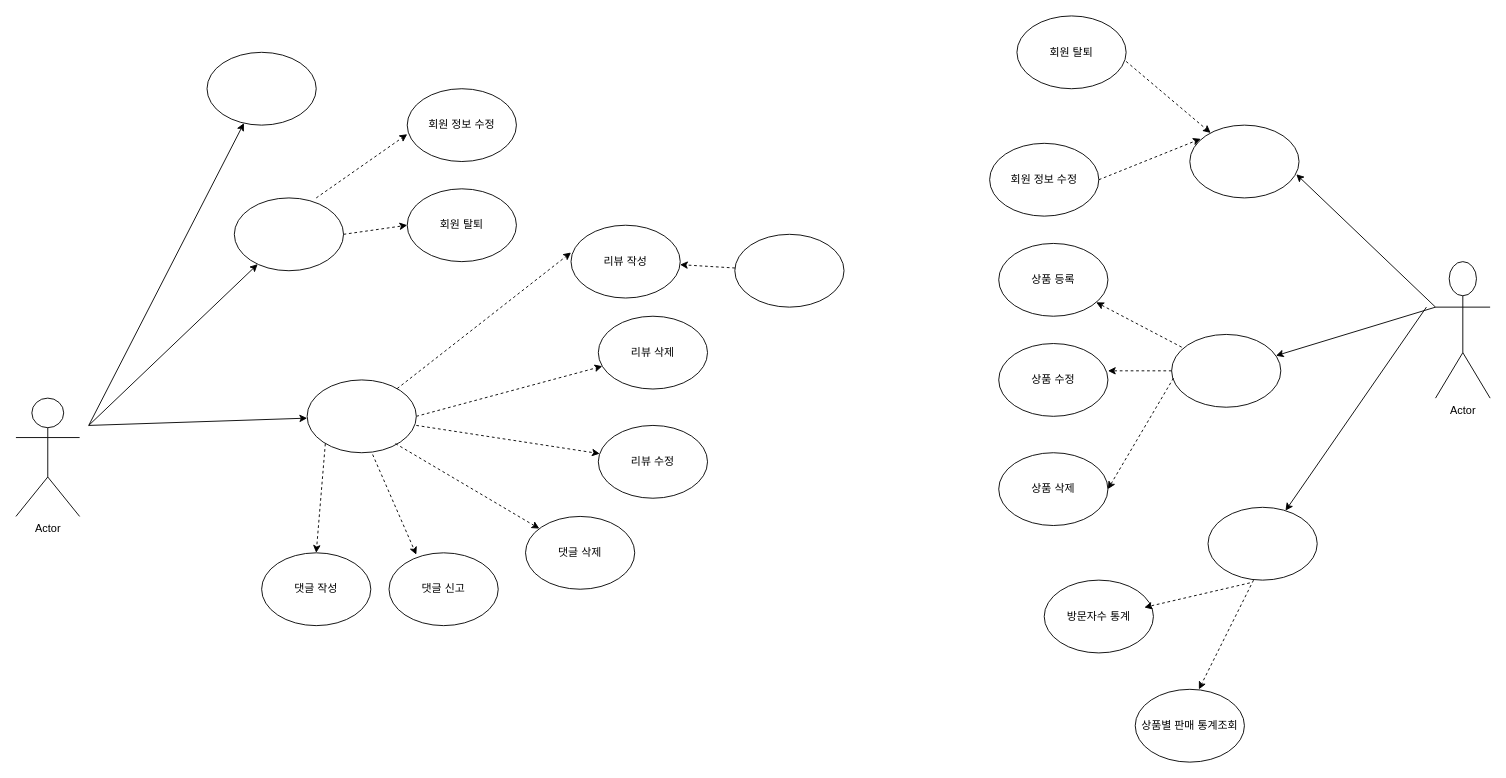
Image size: 1506x778. Some labels were removed from this diagram. Each missing label, with the box of its shape:
로그인: (206, 51, 316, 125)
리뷰 조회: (306, 379, 416, 453)
마이페이지 조회: (233, 197, 344, 271)
사진 첨부: (734, 233, 844, 307)
상품 관리: (1171, 334, 1281, 407)
통걔조회: (1207, 506, 1317, 580)
회원 정보 조회: (1189, 124, 1299, 198)
